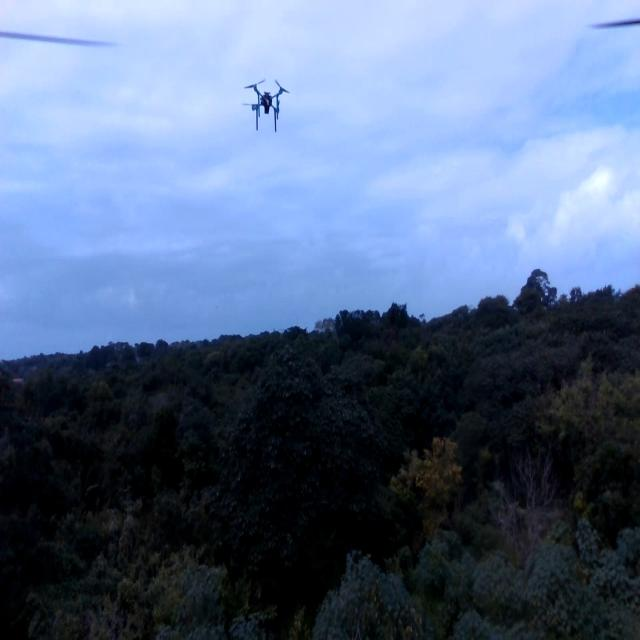-uav-: (237, 72, 296, 138)
